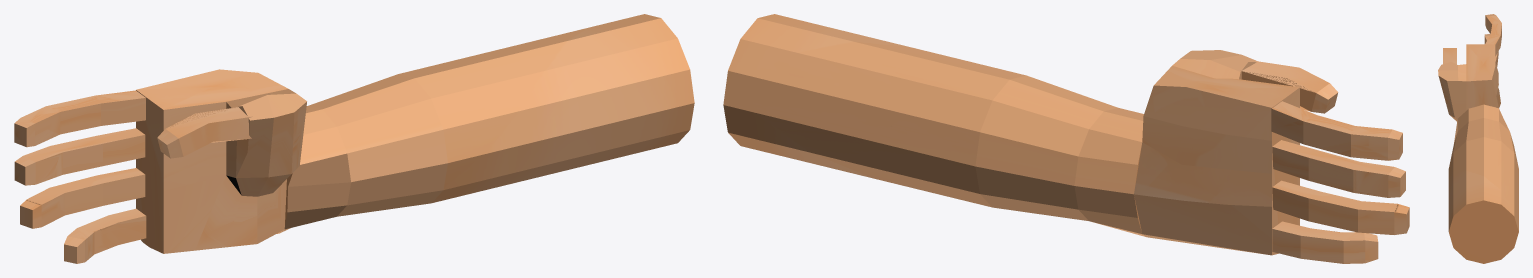
The model's file is ManoConMaterial.fbx.
The picture shows the model from 3 angles, left to right: view 1: azimuth 30°, elevation 25°; view 2: azimuth 150°, elevation 25°; view 3: azimuth 270°, elevation 25°; orthographic projection. The views are drawn at different scales.
Visible parts, largest first — view 1: Brazo, Cube, índice, Corazón, Anular, Pulgar, Meñique; view 2: Brazo, Cube, Anular, índice, Corazón, Meñique, Pulgar; view 3: Brazo, Cube, índice, Pulgar, Corazón.
Part boxes in pixels (x1,y1,x2,y2): Brazo: [280, 14, 694, 232]; Cube: [136, 69, 306, 253]; índice: [14, 90, 145, 147]; Corazón: [14, 128, 145, 185]; Anular: [20, 168, 145, 228]; Pulgar: [157, 107, 252, 158]; Meñique: [64, 208, 146, 263]; Brazo: [723, 14, 1145, 236]; Cube: [1134, 50, 1299, 255]; Anular: [1272, 180, 1409, 234]; índice: [1271, 101, 1402, 160]; Corazón: [1272, 140, 1405, 197]; Meñique: [1272, 221, 1378, 263]; Pulgar: [1240, 61, 1338, 113]; Brazo: [1448, 104, 1518, 263]; Cube: [1438, 44, 1500, 121]; índice: [1485, 14, 1501, 56]; Pulgar: [1443, 48, 1456, 65]; Corazón: [1484, 34, 1498, 66].
Bounding box in the file's own units: 166 × 41.35 × 34.57.
